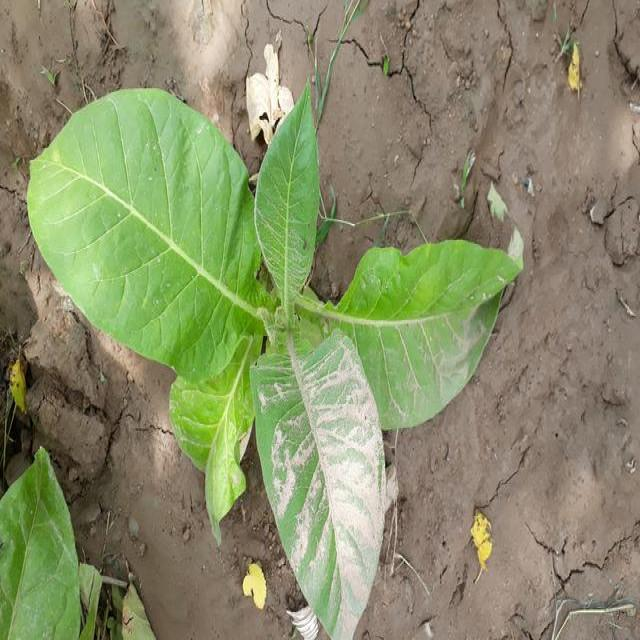crop: (33, 104, 520, 640), (2, 471, 86, 640)
